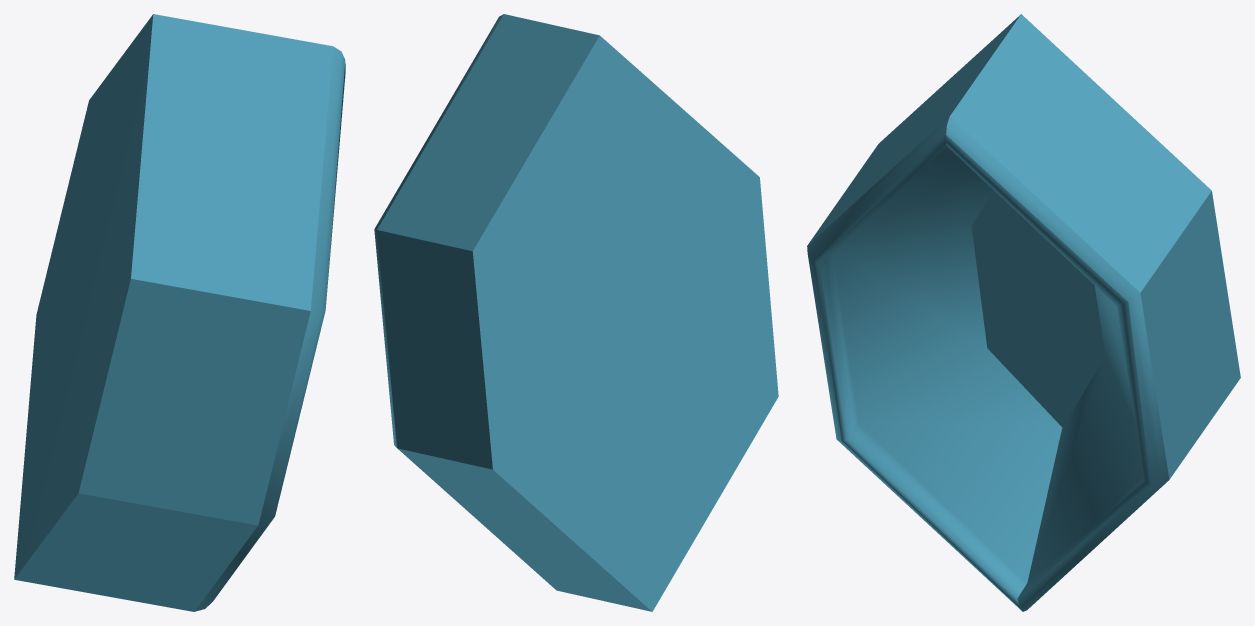
File: TR4_8shapes_Hex_Classic_Metal.001 3.glb
3 renders of one model, left to right at view 1: azimuth 30°, elevation 25°; view 2: azimuth 150°, elevation 25°; view 3: azimuth 270°, elevation 25°, orthographic. The views are drawn at different scales.
Visible parts, largest first — view 1: TR4_8shapes_Hex_Classic_Metal.001; view 2: TR4_8shapes_Hex_Classic_Metal.001; view 3: TR4_8shapes_Hex_Classic_Metal.001.
Part boxes in pixels (<box>): TR4_8shapes_Hex_Classic_Metal.001: <box>14,14,345,611</box>; TR4_8shapes_Hex_Classic_Metal.001: <box>374,14,778,611</box>; TR4_8shapes_Hex_Classic_Metal.001: <box>807,14,1240,611</box>.
Bounding box in the file's own units: 0.4021 × 0.7304 × 0.4984.
